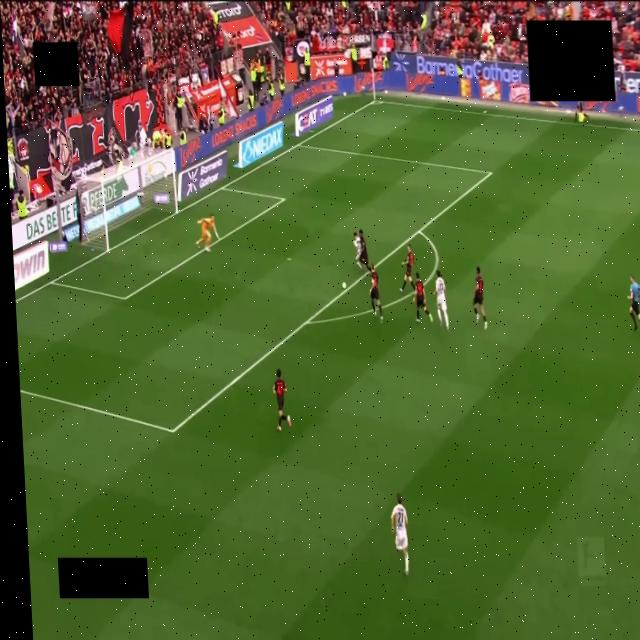ball: (342, 282, 346, 289)
player: (391, 494, 409, 575), (273, 369, 291, 431), (413, 272, 433, 322), (473, 267, 487, 328), (197, 215, 218, 251), (435, 271, 448, 329), (370, 265, 383, 322), (401, 245, 415, 292), (359, 230, 371, 271), (353, 232, 362, 269)
referee: (628, 275, 639, 330)
